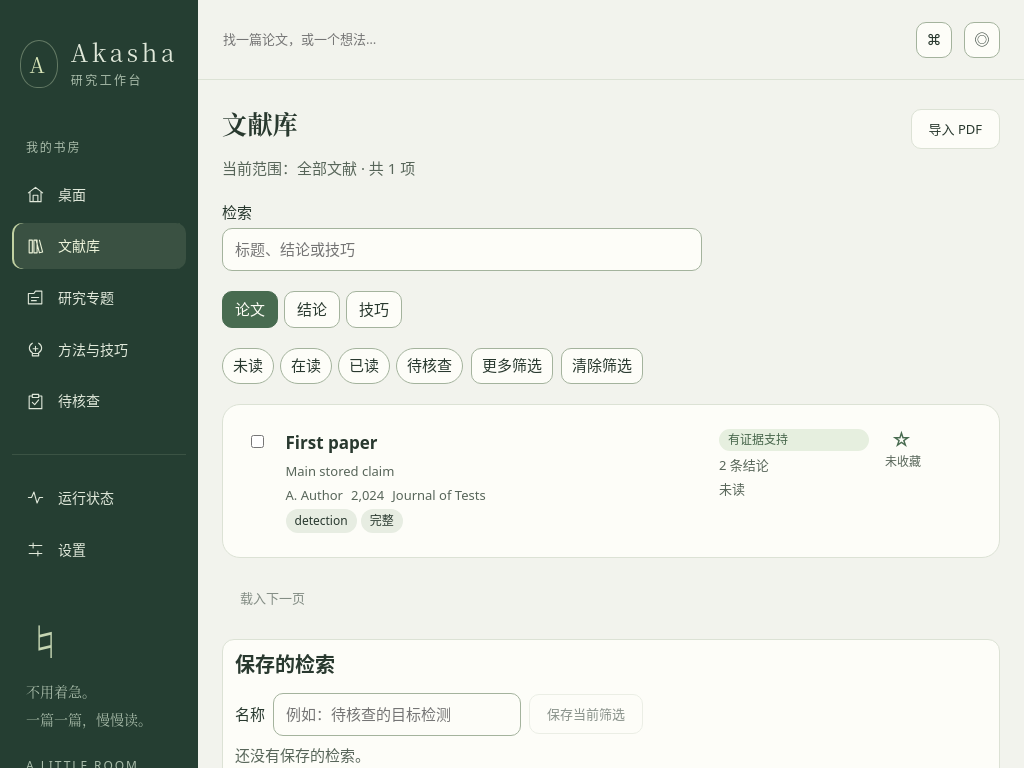
Scenario: UX-022 batch actions preview scope and stay idempotent › keeps the selection and explains a failed batch instead of showing success
Click the checkbox named "选择 First paper". click: (258, 441)
box: [251, 434, 264, 448]
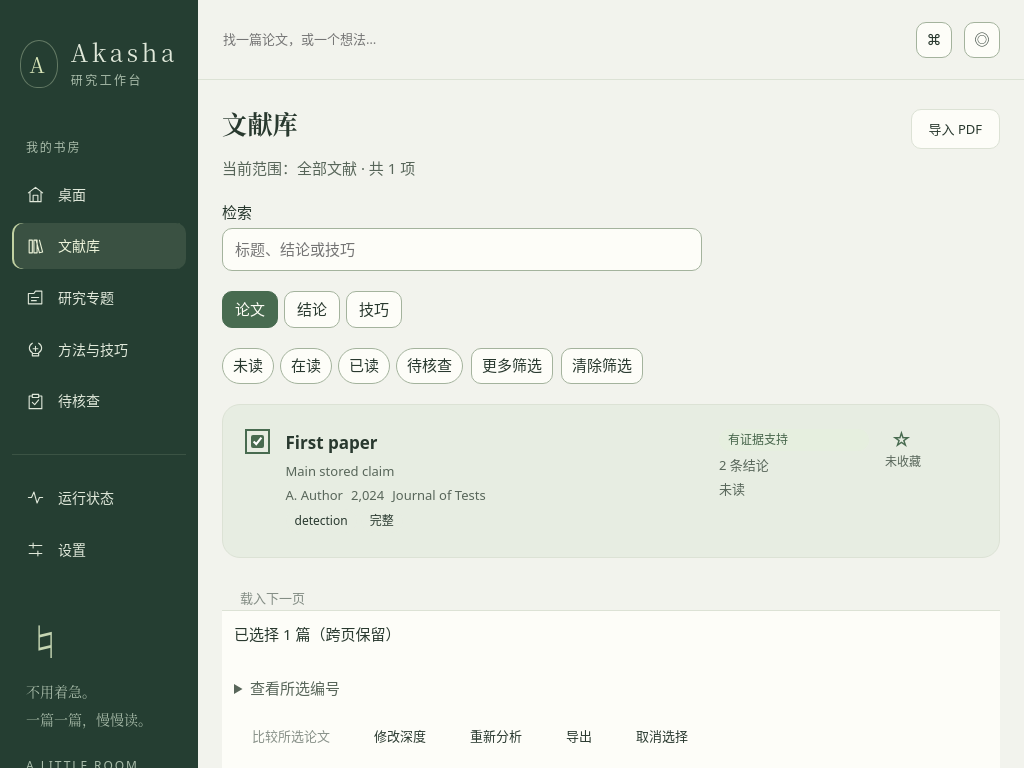
Check: the text "已选择 1 篇（跨页保留）" is shown, box [234, 623, 400, 643]
Click the button "修改深度". click: (400, 736)
box: [356, 716, 444, 756]
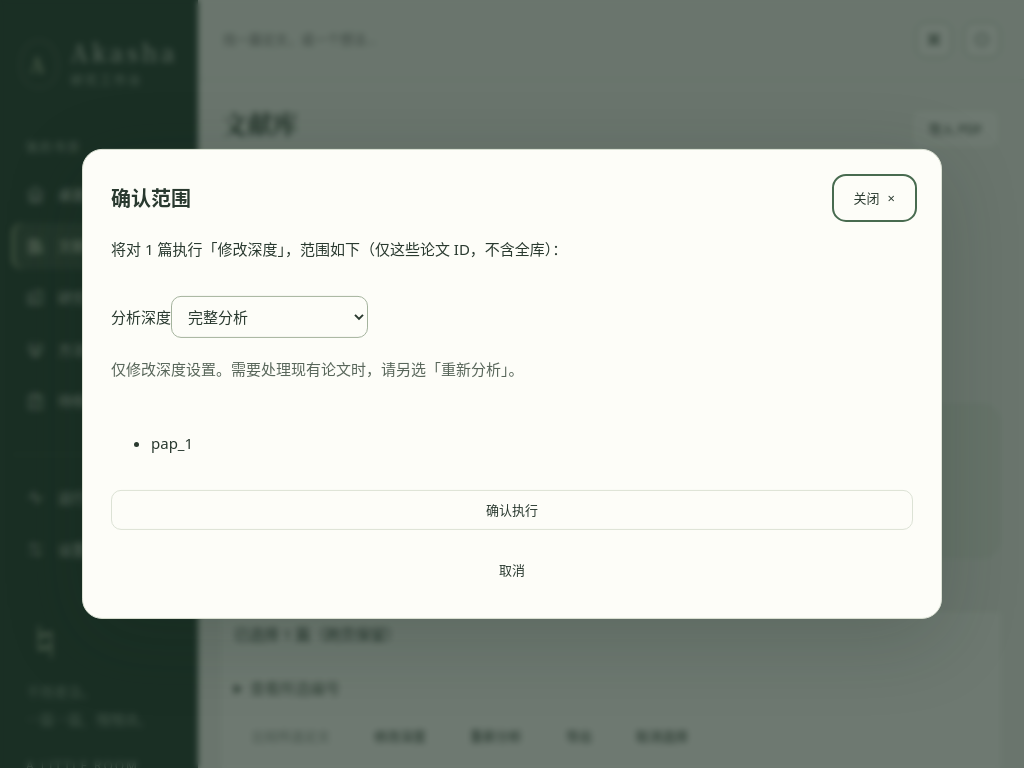
Click the button "确认执行". click: (512, 510)
box: [111, 490, 913, 530]
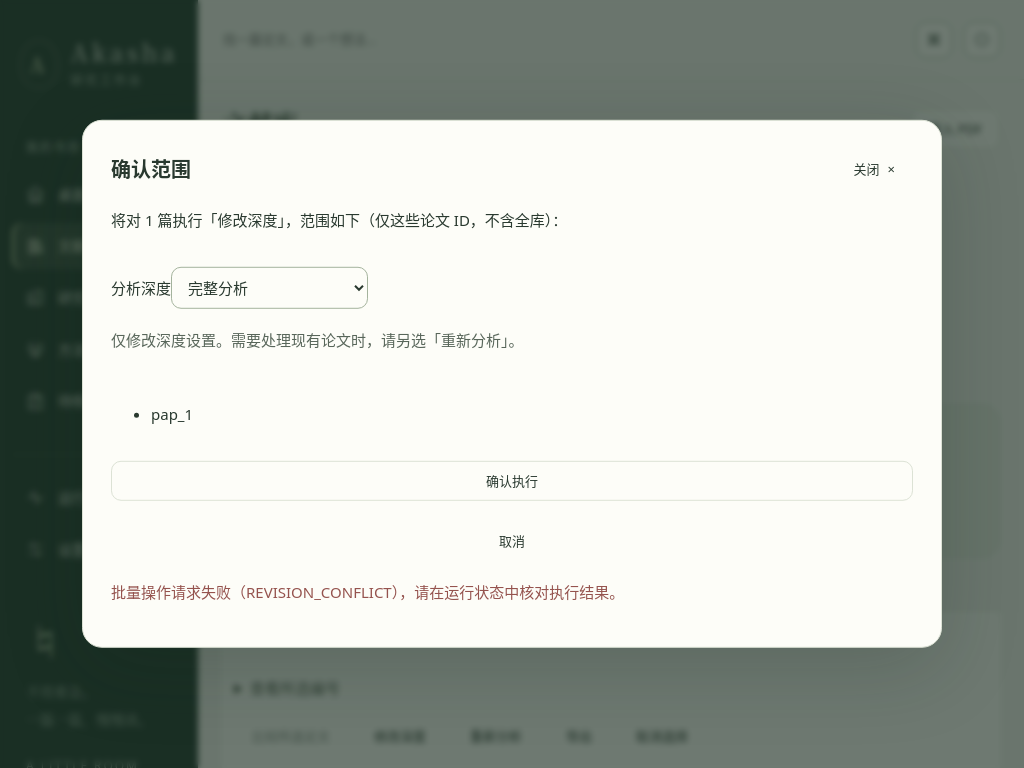
Check: the message with test id "operation-error" shows "REVISION_CONFLICT", box [246, 582, 392, 602]
Check: the message with test id "operation-error" shows "核对执行结果", box [392, 582, 624, 602]
